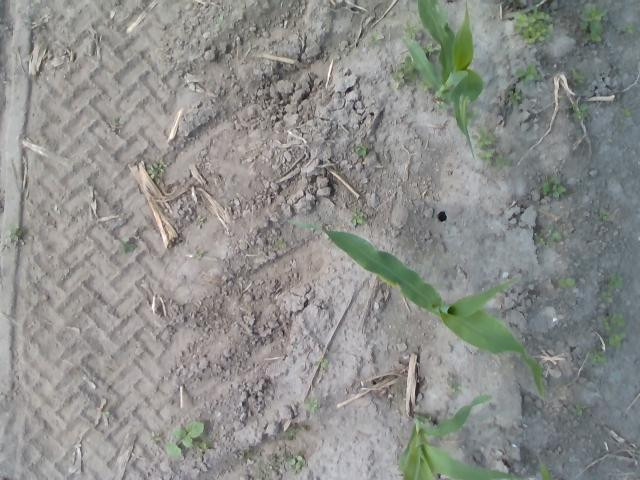Maize: (285, 219, 545, 399), (396, 394, 552, 480), (402, 0, 484, 160)
Weeds: (512, 6, 554, 44), (166, 421, 204, 456), (578, 5, 608, 44), (391, 55, 418, 90), (268, 450, 306, 474), (534, 223, 562, 249), (540, 174, 568, 200), (471, 126, 499, 148), (515, 62, 540, 83), (600, 312, 626, 332), (114, 236, 136, 253), (403, 18, 420, 40), (586, 348, 608, 364), (568, 68, 585, 87), (494, 150, 511, 169), (570, 102, 590, 118), (606, 332, 626, 348), (147, 162, 167, 178), (506, 87, 523, 105), (476, 148, 494, 165), (5, 223, 20, 243), (606, 274, 624, 290), (351, 206, 365, 226), (304, 397, 320, 413), (558, 276, 578, 288), (421, 42, 441, 54), (464, 107, 477, 125), (620, 21, 636, 34), (148, 431, 161, 446), (601, 290, 613, 303), (572, 404, 586, 415), (448, 382, 463, 392), (355, 144, 367, 156), (194, 215, 204, 229), (599, 212, 612, 222), (438, 100, 451, 110), (214, 15, 223, 29), (200, 440, 212, 450), (370, 32, 380, 44), (193, 250, 204, 260), (620, 108, 632, 117), (315, 359, 329, 366), (288, 427, 300, 435), (276, 240, 284, 248), (99, 410, 110, 414)
